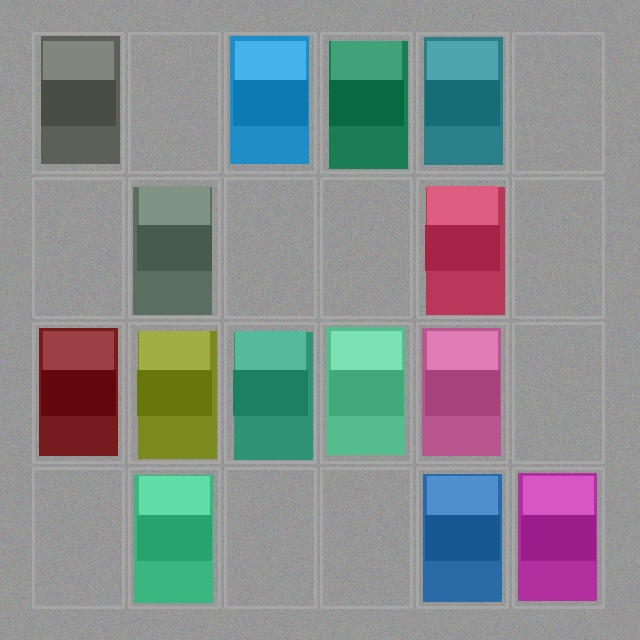space-empty: (131, 35, 217, 170), (515, 35, 601, 170), (35, 180, 121, 315), (227, 180, 313, 315), (323, 180, 409, 315), (515, 180, 601, 315), (515, 325, 601, 460), (35, 470, 121, 605), (227, 470, 313, 605), (323, 470, 409, 605)
space-occupied: (35, 35, 121, 170), (227, 35, 313, 170), (323, 35, 409, 170), (419, 35, 505, 170), (131, 180, 217, 315), (419, 180, 505, 315), (35, 325, 121, 460), (131, 325, 217, 460), (227, 325, 313, 460), (323, 325, 409, 460), (419, 325, 505, 460), (131, 470, 217, 605), (419, 470, 505, 605), (515, 470, 601, 605)
